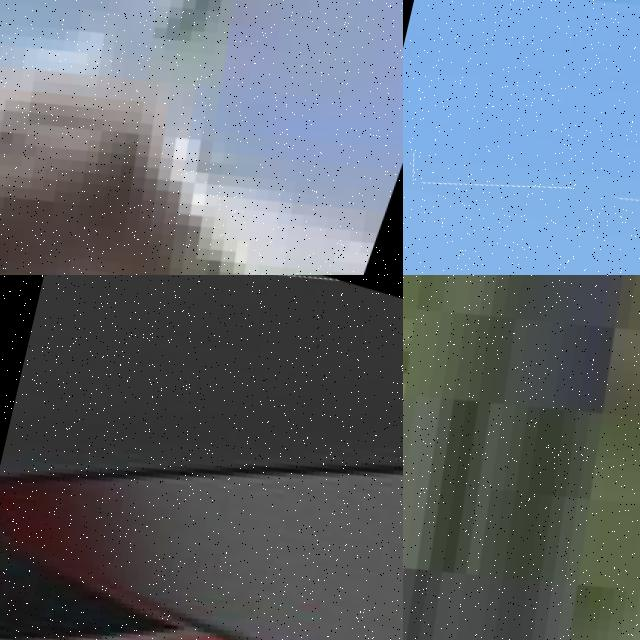drone: (0, 275, 403, 640), (0, 0, 403, 275), (403, 275, 640, 640), (403, 0, 640, 275)
